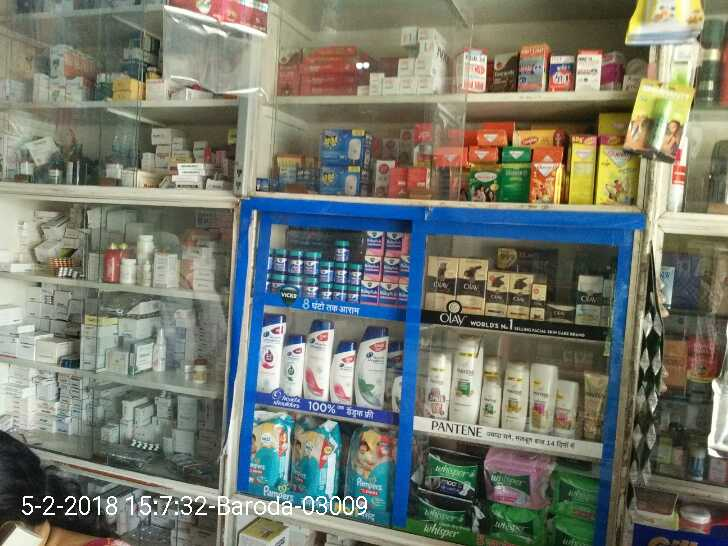beauty: (355, 322, 389, 410), (451, 339, 485, 422), (307, 324, 337, 401), (502, 362, 536, 428), (255, 315, 283, 394), (426, 350, 455, 417), (454, 259, 486, 319), (581, 370, 608, 439), (278, 335, 303, 400), (573, 273, 606, 322), (553, 376, 579, 437), (428, 255, 456, 311), (531, 362, 553, 433), (329, 337, 353, 402), (481, 382, 510, 422), (509, 272, 532, 318), (492, 271, 506, 318)
pharmacy: (482, 451, 549, 512), (346, 427, 391, 512), (291, 418, 338, 497), (251, 411, 290, 486), (419, 445, 476, 496), (416, 491, 477, 532), (555, 467, 601, 520), (488, 505, 534, 546), (385, 228, 406, 258), (365, 227, 385, 256), (380, 258, 399, 281), (364, 254, 380, 280), (302, 248, 316, 277), (332, 261, 350, 283), (361, 279, 377, 303), (287, 249, 299, 279), (272, 248, 286, 272), (318, 255, 330, 282), (334, 239, 350, 259), (380, 284, 395, 305), (350, 263, 362, 283)
